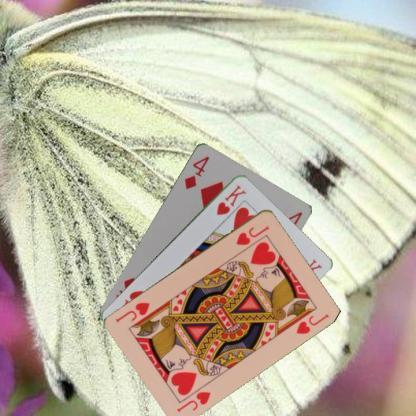4d: (182, 154, 210, 190)
Jh: (233, 222, 271, 247), (174, 388, 212, 413)
Kh: (214, 182, 248, 216)
